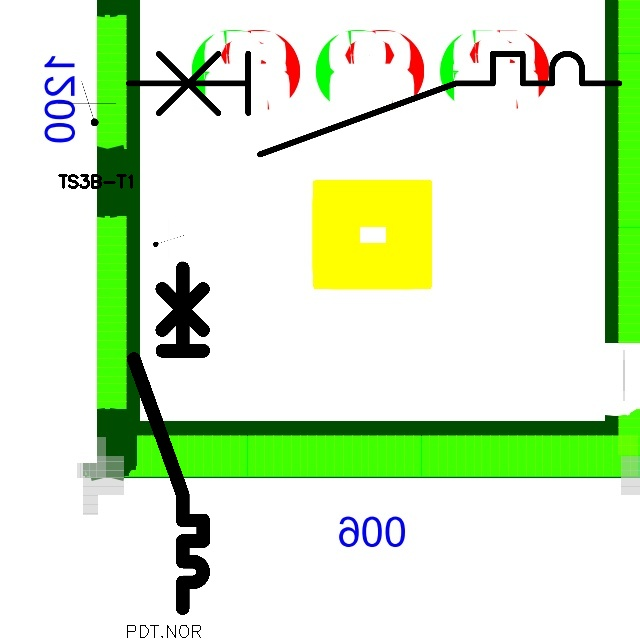interruptor_termomagnetico: (116, 41, 632, 167), (125, 259, 212, 616)
